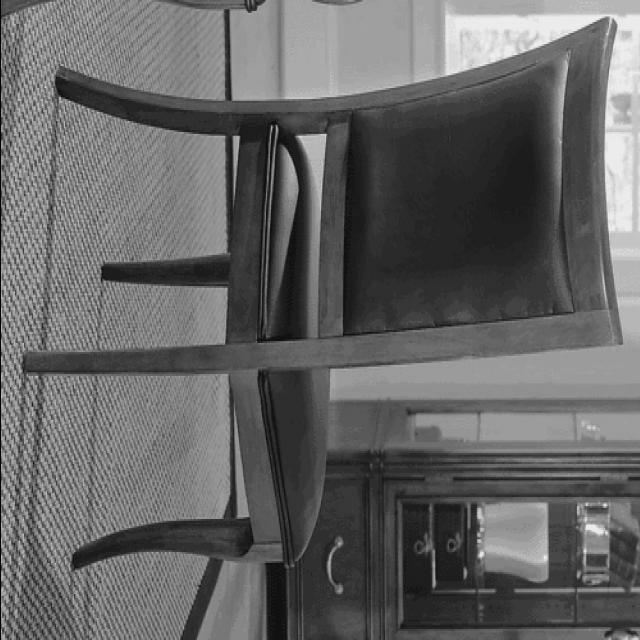chair: (19, 6, 620, 570)
